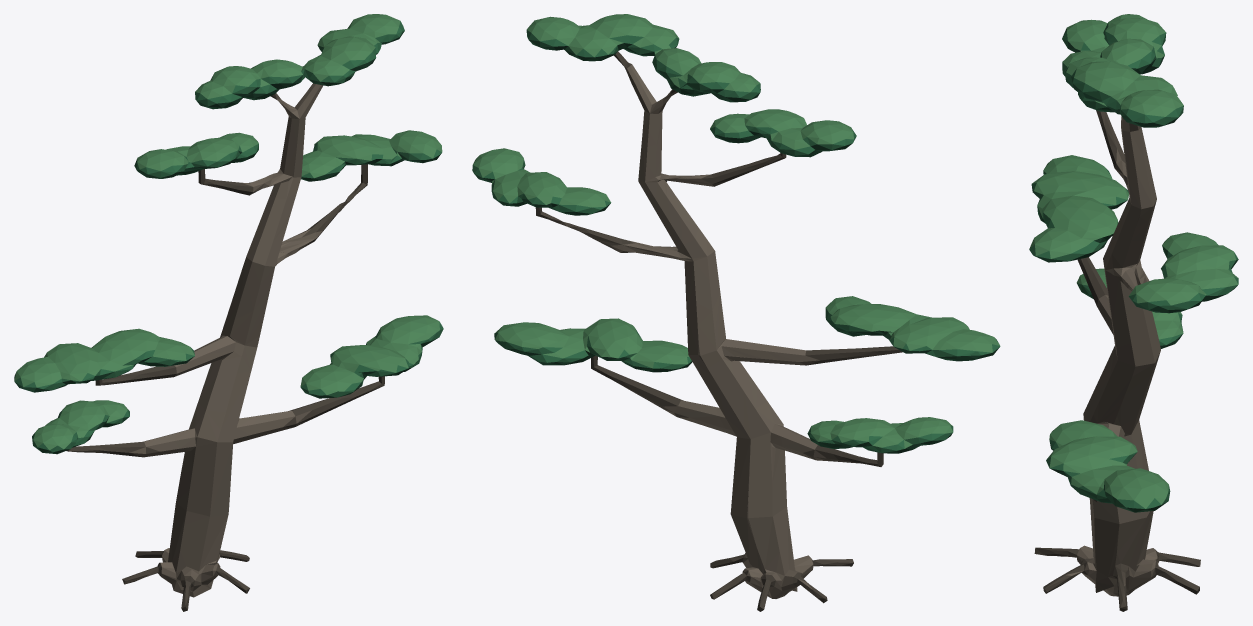
File: ancient-pine-1419-lod0.glb
3 renders of one model, left to right at view 1: azimuth 30°, elevation 25°; view 2: azimuth 150°, elevation 25°; view 3: azimuth 270°, elevation 25°, orthographic. The views are drawn at different scales.
Visible parts, largest first — view 1: n8.004, n12.004, n11.004, n9.004, n10.004; view 2: n12.004, n8.004, n11.004, n9.004, n10.004; view 3: n12.004, n8.004, n11.004, n9.004, n10.004.
Part boxes in pixels (x1=…): n8.004: x1=130, y1=83, x2=323, y2=597; n12.004: x1=14, y1=14, x2=442, y2=450; n11.004: x1=14, y1=21, x2=443, y2=452; n9.004: x1=66, y1=93, x2=384, y2=611; n10.004: x1=15, y1=31, x2=441, y2=454; n12.004: x1=473, y1=14, x2=999, y2=448; n8.004: x1=611, y1=64, x2=829, y2=598; n11.004: x1=472, y1=30, x2=1000, y2=452; n9.004: x1=535, y1=51, x2=902, y2=611; n10.004: x1=474, y1=40, x2=999, y2=453; n12.004: x1=1029, y1=14, x2=1238, y2=508; n8.004: x1=1066, y1=116, x2=1160, y2=596; n11.004: x1=1029, y1=22, x2=1238, y2=508; n9.004: x1=1034, y1=110, x2=1200, y2=611; n10.004: x1=1030, y1=35, x2=1238, y2=512.
Bounding box in the file's own units: 5.07 × 5.42 × 1.67.
